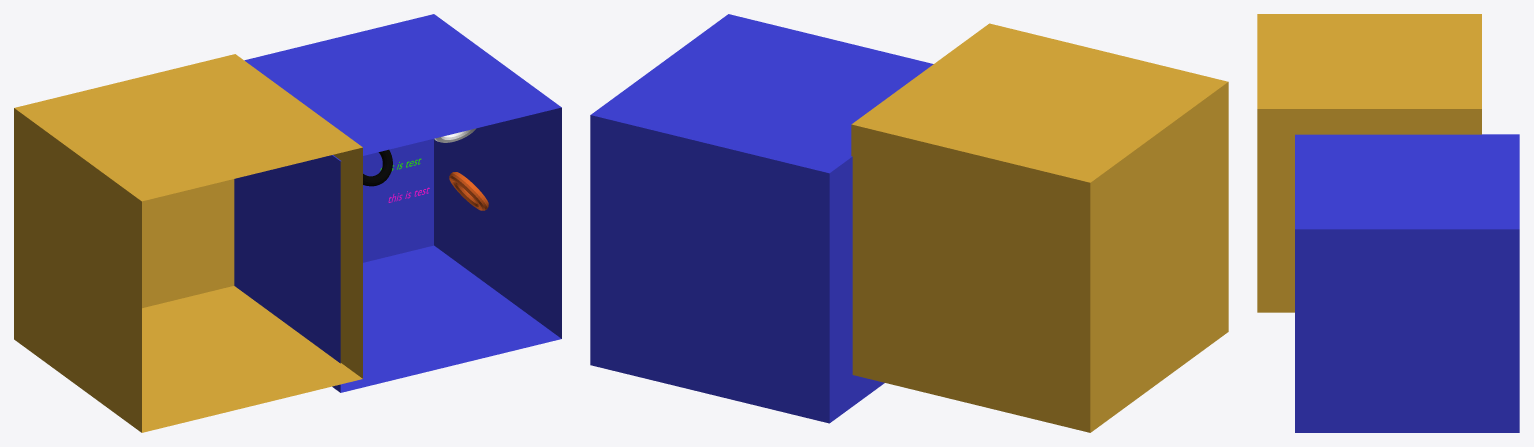
3 views of the same model, side by side, from view 1: azimuth 30°, elevation 25°; view 2: azimuth 150°, elevation 25°; view 3: azimuth 270°, elevation 25° (orthographic). The views are drawn at different scales.
Visible parts, largest first — view 1: Cube003, Cube, Torus002, Torus; view 2: Cube003, Cube; view 3: Cube, Cube003.
Part boxes in pixels (box(x1,y1,x2,y2)): Cube003: box(14, 54, 362, 432); Cube: box(234, 14, 561, 392); Torus002: box(449, 172, 488, 210); Torus: box(363, 149, 392, 186); Cube003: box(851, 23, 1228, 432); Cube: box(590, 14, 933, 423); Cube: box(1295, 134, 1519, 432); Cube003: box(1257, 14, 1481, 312).
Size of the model in its own units: 77.22 by 43.61 by 45.17.
